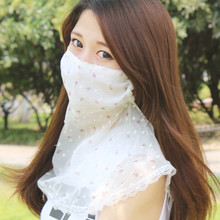face_mask: (62, 7, 136, 113)
